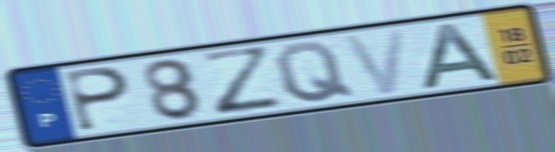8: (140, 56, 204, 123)
A: (418, 20, 506, 92)
P: (62, 65, 133, 134)
Q: (271, 39, 358, 105)
V: (339, 25, 410, 97)
Z: (196, 44, 289, 119)
